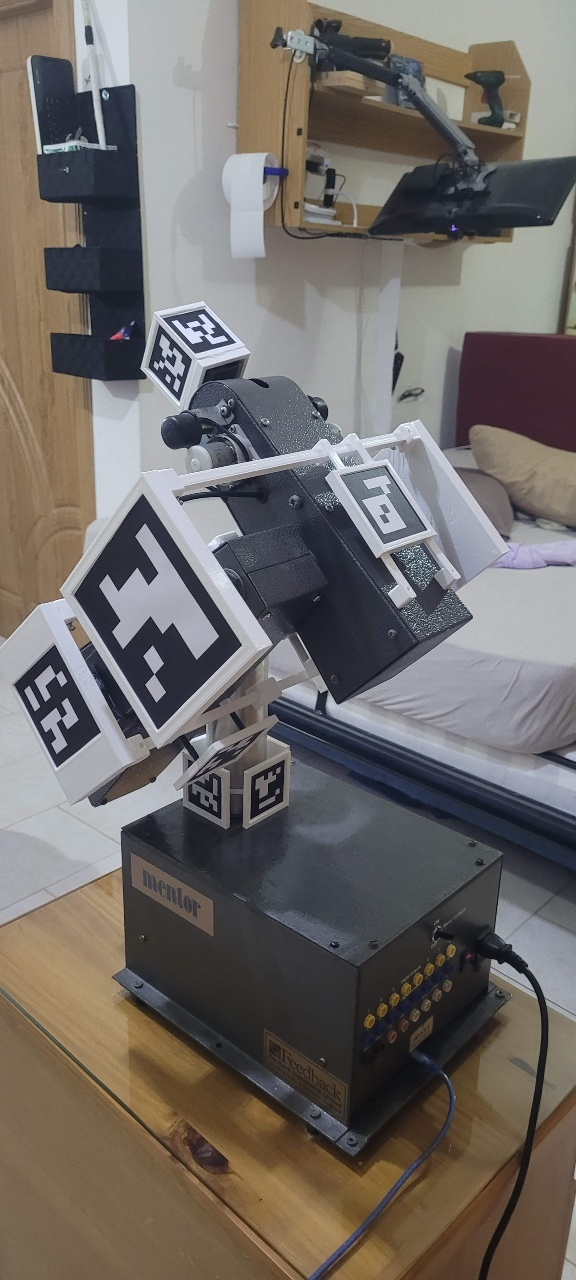Robot: (3, 302, 515, 839)
